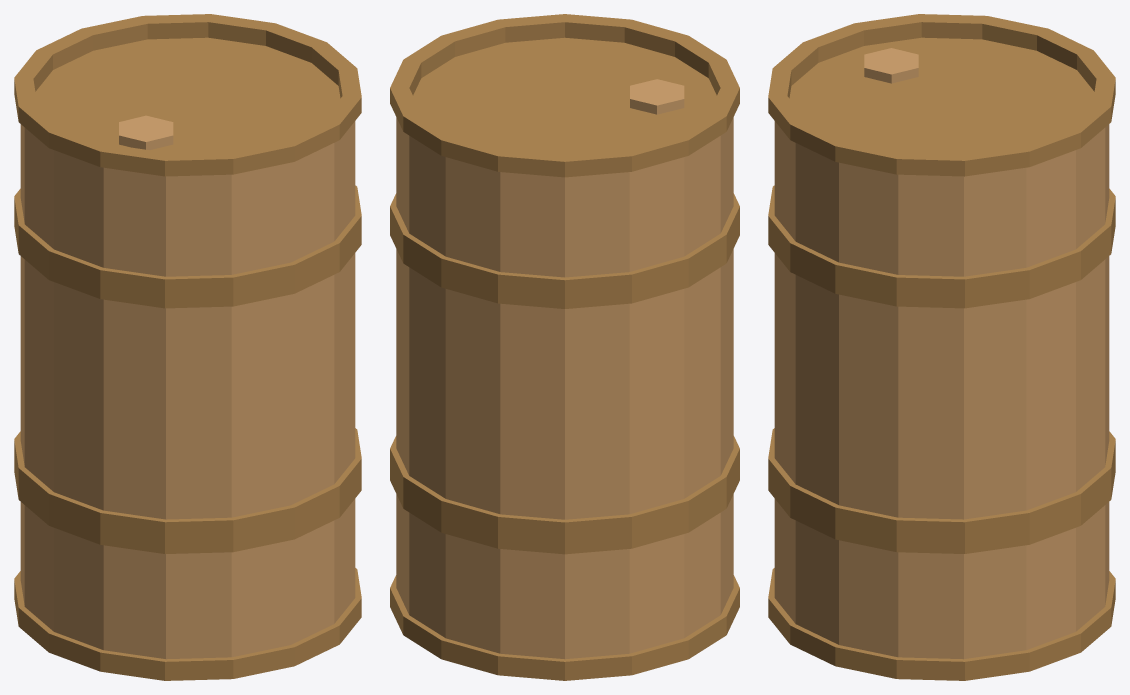
Rendered from barrel_a.gltf.
The picture shows the model from 3 angles, left to right: view 1: azimuth 30°, elevation 25°; view 2: azimuth 150°, elevation 25°; view 3: azimuth 270°, elevation 25°; orthographic projection.
Parts seen in each view (by area): view 1: barrel_a001; view 2: barrel_a001; view 3: barrel_a001.
Boxes of the visible parts, x1,y1,x2,y2 form: barrel_a001: [14, 14, 361, 680]; barrel_a001: [390, 14, 739, 680]; barrel_a001: [768, 14, 1115, 680].
Size of the model in its own units: 0.5559 by 0.9177 by 0.5559.
1 material, 1 textured.
